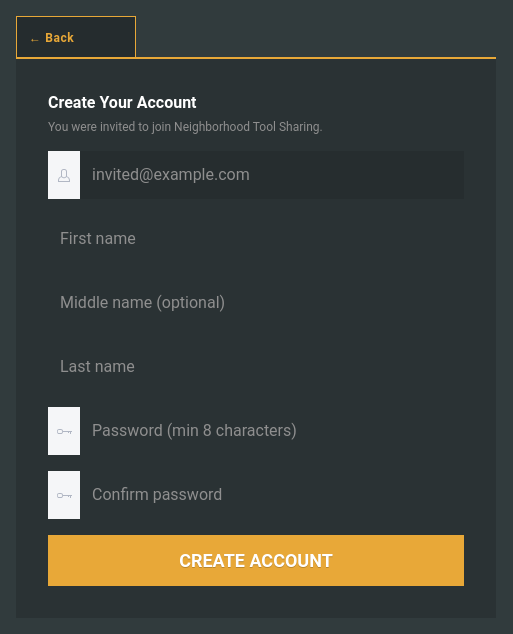
Test: Register › shows an error when passwords do not match
expect the field showing "invited@example.com" is shown: met, box [80,151,464,199]
In the field with placeholder "First name": (256, 239) [48,215,464,263], type "Ada"
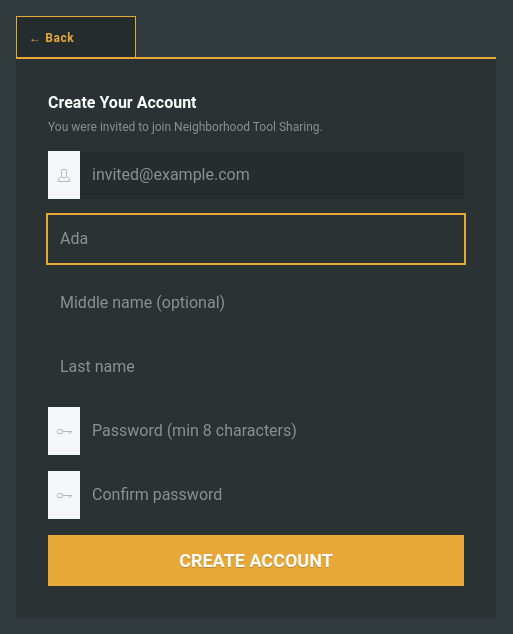
In the field with placeholder "Last name": (256, 367) [48,343,464,391], type "Lovelace"
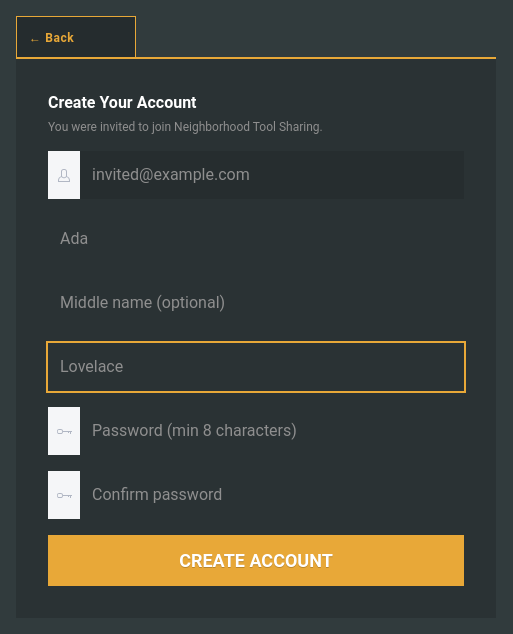
In the password field with placeholder "Password (min 8 characters)": (272, 431) [80,407,464,455], type "Str0ngPass!"
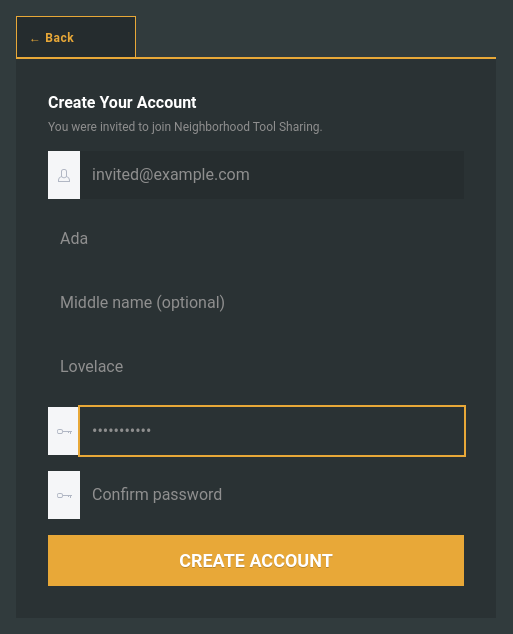
In the password field with placeholder "Confirm password": (272, 495) [80,471,464,519], type "Different1!"
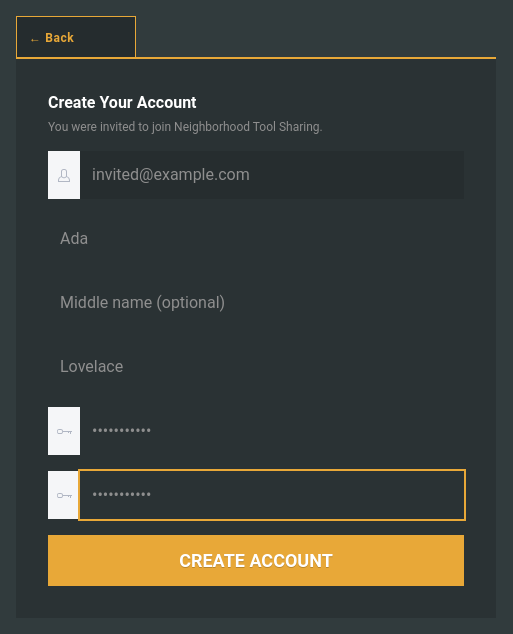
Click the button "CREATE ACCOUNT": (256, 560) [48,535,464,586]
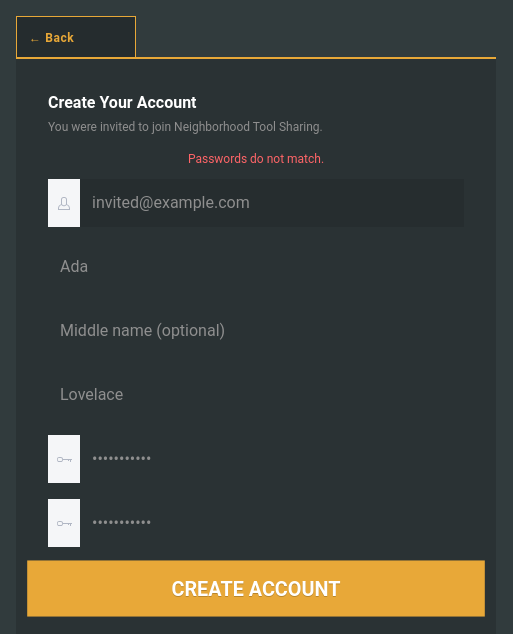
expect the text "Passwords do not match." is shown: met, box [188,152,324,166]
